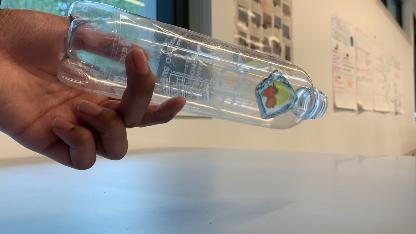Plastic Bottle: (56, 0, 332, 132)
